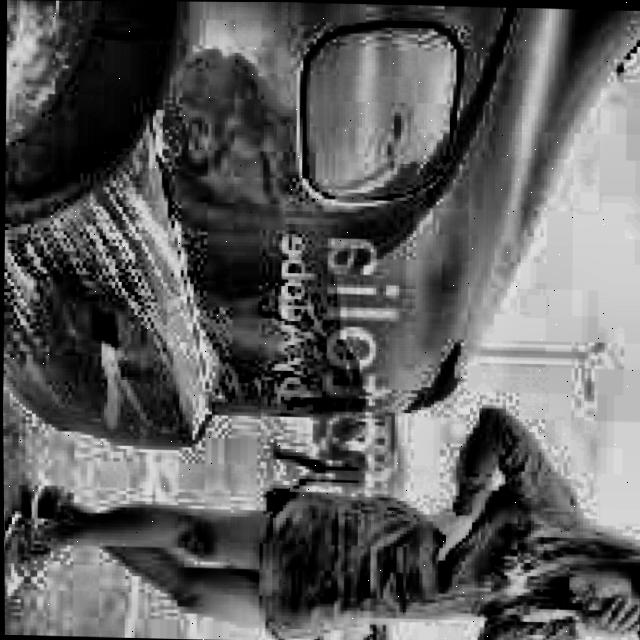bumper_scratch: (55, 113, 242, 412)
